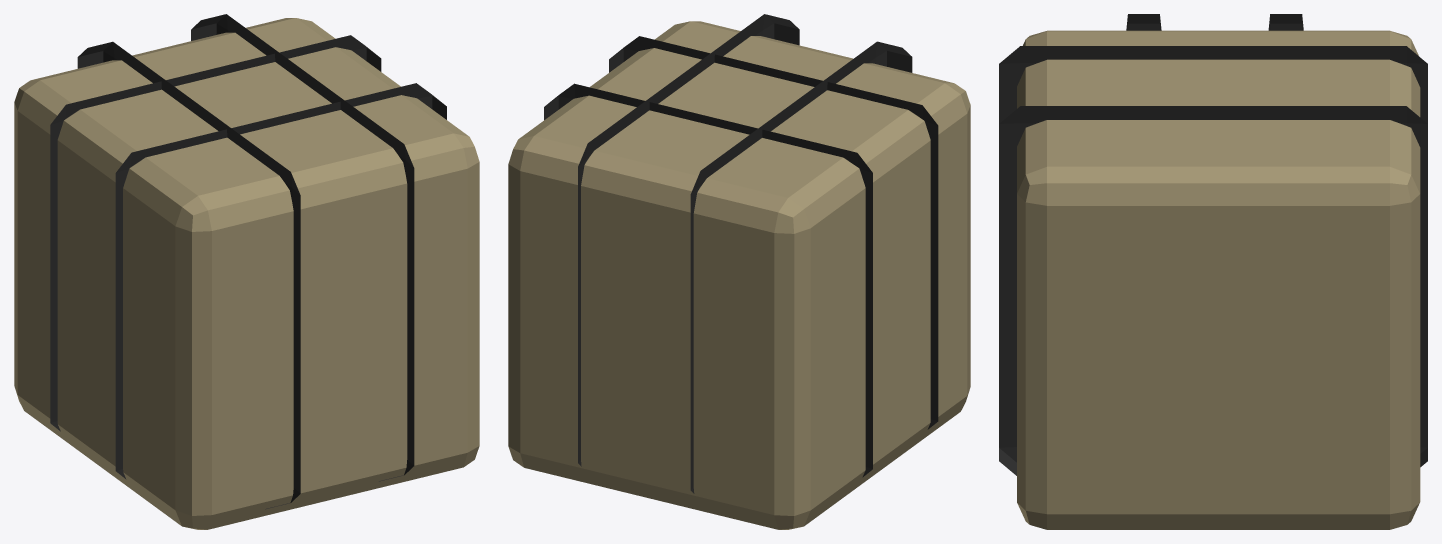
Rendered from box_obstacle.fbx.
3 renders of one model, left to right at view 1: azimuth 30°, elevation 25°; view 2: azimuth 150°, elevation 25°; view 3: azimuth 270°, elevation 25°, orthographic. The views are drawn at different scales.
Parts seen in each view (by area): view 1: Cube.004; view 2: Cube.004; view 3: Cube.004.
Boxes of the visible parts, x1,y1,x2,y2 form: Cube.004: (14, 14, 479, 529); Cube.004: (508, 14, 970, 529); Cube.004: (999, 14, 1427, 529).
Size of the model in its own units: 53.37 by 55.98 by 57.69.
